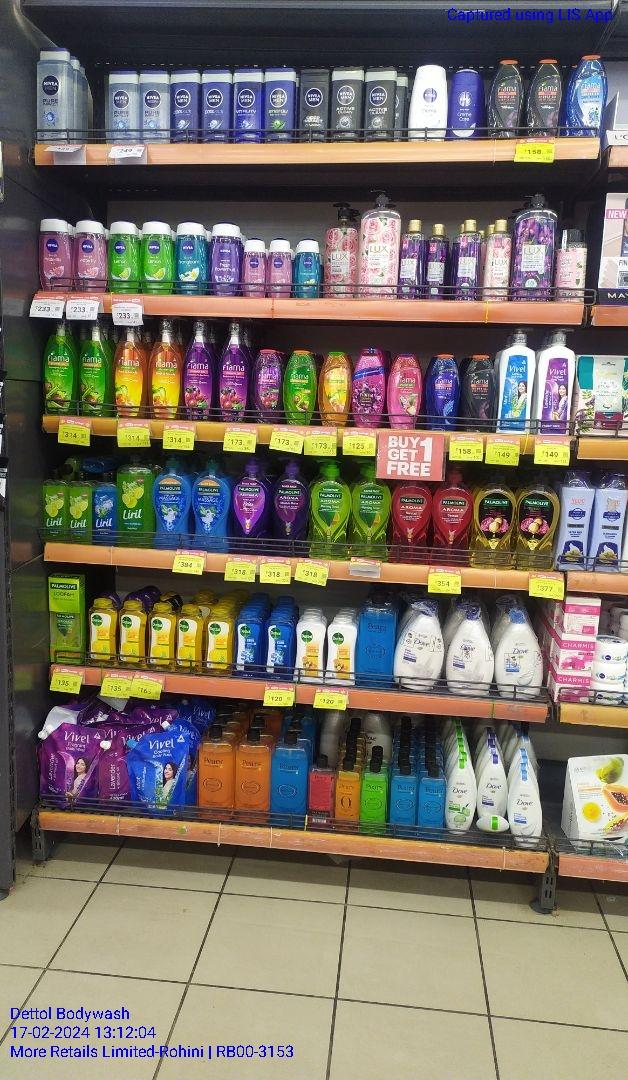Dettol_Bodywash_Cool: (263, 614, 293, 678), (235, 606, 259, 678)
Dettol_Bodywash_Refresh: (201, 606, 229, 676), (119, 600, 147, 667), (88, 599, 116, 664), (148, 601, 174, 668), (175, 604, 199, 671)
Dettol_Nourish_Body_Wash_250ML: (325, 617, 354, 687), (296, 615, 321, 683)
Dove_Deep_Moisture_Body_Wash_250ML: (478, 755, 506, 815)
Dove_Gentle_Exfoliating_Body_Wash_250ML: (512, 770, 544, 848)
Dove_Refreshing_Body_Wash_250ML: (449, 757, 474, 835)
Fiama_Shower_Gel_Lemongrass_and_Jojoba_250ML: (286, 350, 316, 423)
Fiama_Shower_Gel_Patchouli_and_Macadamia_250ML: (391, 354, 417, 429)
Fiama_Shower_Gel_Peach_and_Avocado_250ML: (319, 351, 349, 426)
Liril_Cooling_Mint_Body_Wash_250ML: (93, 465, 119, 541)
Liril_Lime_and_Tea_Tree_Oil_Body_Wash_250ML: (42, 466, 69, 537), (69, 466, 90, 543)
Lux_Black_Orchid_Scent_and_Juniper_Oil_Body_Wash_245ML: (450, 218, 478, 301), (424, 219, 449, 296), (399, 219, 420, 302)
Nivea_Shower_Gel_Frangipani_and_Oil_250ML: (176, 220, 204, 292)
Nivea_Shower_Gel_Fresh_Powerfruit_250ML: (209, 224, 238, 294)
Nivea_Shower_Gel_Lemon_and_Oil_250ML: (142, 224, 173, 296), (110, 222, 140, 291)
Nivea_Shower_Gel_Waterlily_and_Oil_250ML: (73, 220, 107, 291), (38, 219, 69, 291)
Pears_Pure_Glycerin_and_Lemon_Flower_Extracts_Body_Wash_250ML: (360, 761, 388, 832)
Pears_Pure_Glycerin_and_Mint_Extracts_Body_Wash_250ML: (418, 760, 446, 835), (391, 763, 416, 830)
